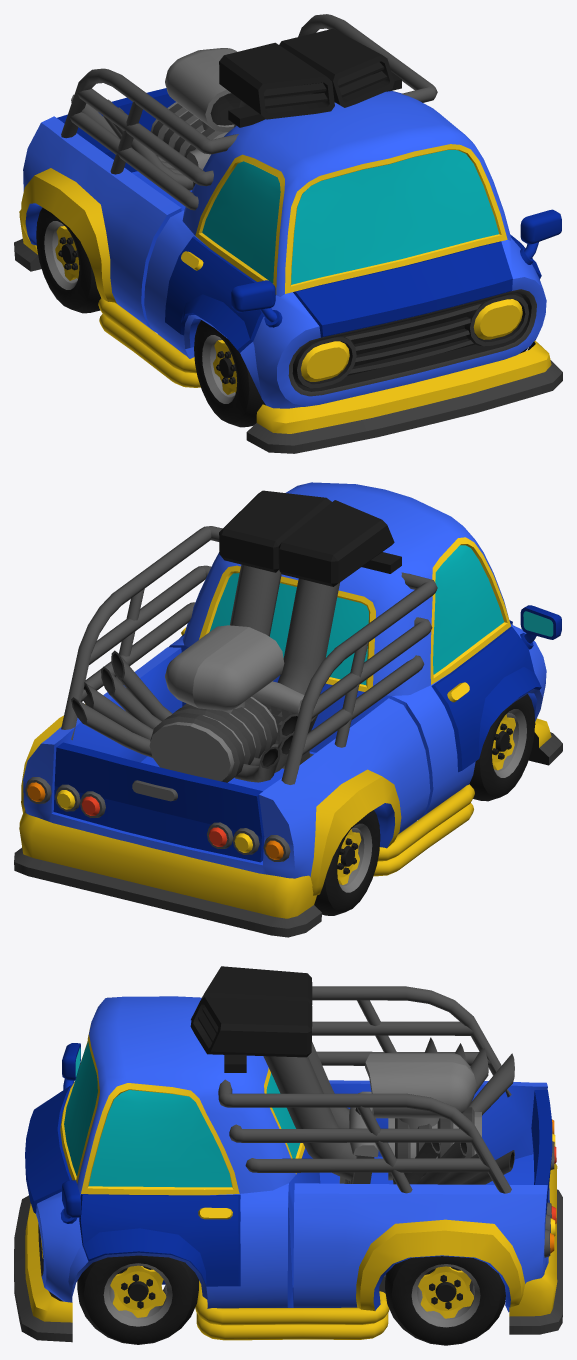
File: VEH20-B.fbx
3 views of the same model, one above another, from view 1: azimuth 30°, elevation 25°; view 2: azimuth 150°, elevation 25°; view 3: azimuth 270°, elevation 25° (orthographic).
Visible parts, largest first — view 1: VEH20_B, V20B_Wheel_FR, V20B_Wheel_BR; view 2: VEH20_B, V20B_Wheel_FR, V20B_Wheel_BR; view 3: VEH20_B, V20B_Wheel_FL, V20B_Wheel_BL.
Boxes of the visible parts, bbox=[...] form: VEH20_B: bbox=[14, 14, 562, 453]; V20B_Wheel_FR: bbox=[194, 320, 265, 427]; V20B_Wheel_BR: bbox=[36, 207, 100, 313]; VEH20_B: bbox=[14, 482, 562, 937]; V20B_Wheel_FR: bbox=[469, 694, 535, 801]; V20B_Wheel_BR: bbox=[314, 810, 380, 915]; VEH20_B: bbox=[14, 966, 562, 1342]; V20B_Wheel_FL: bbox=[77, 1255, 198, 1344]; V20B_Wheel_BL: bbox=[385, 1256, 505, 1345].
Size of the model in its own units: 261 by 222 by 385.
1 material, 1 textured.
